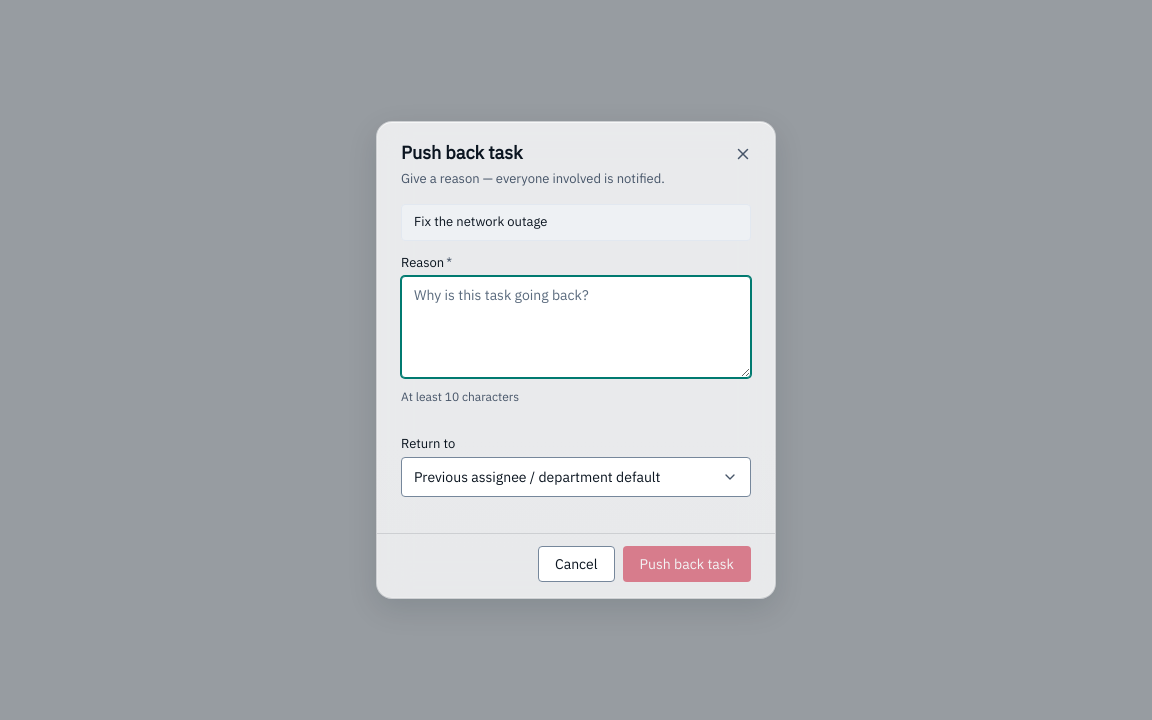
Test: PushBackModal › enables submit when reason is long enough
Type "A valid push-back reason here" into the text box.
click(576, 327); type("A valid push-back reason here")  # box [401, 276, 751, 378]
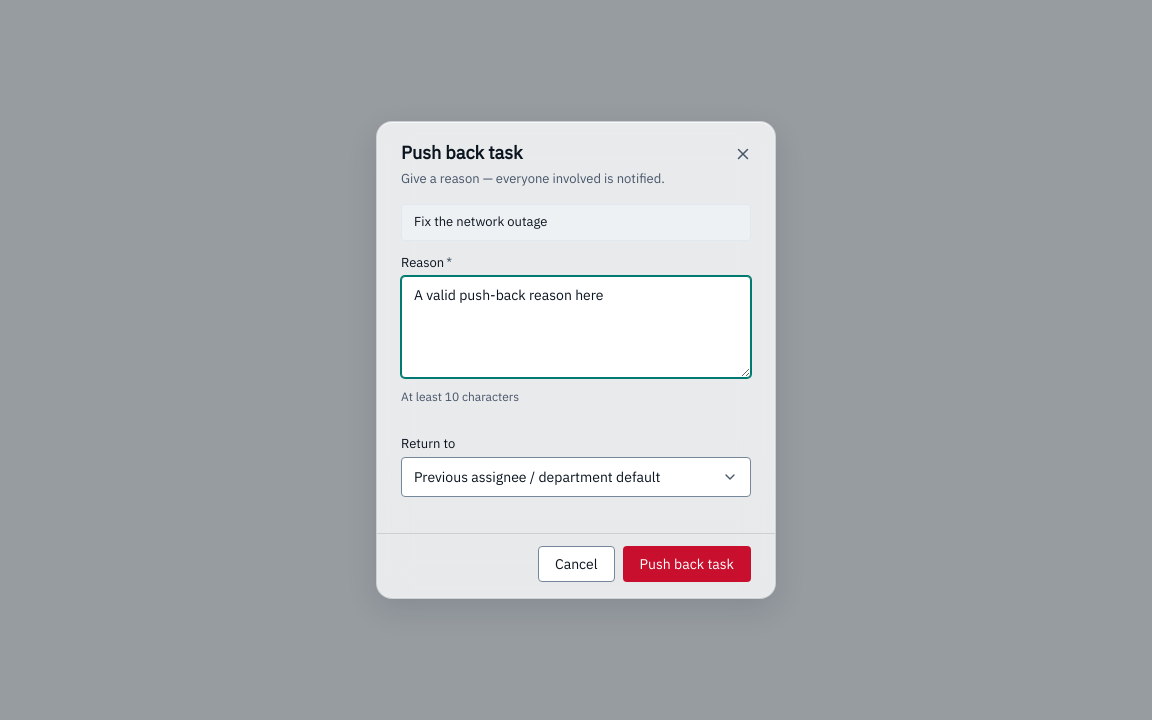
Now the button "Push back task" is enabled, box [623, 546, 751, 582]
